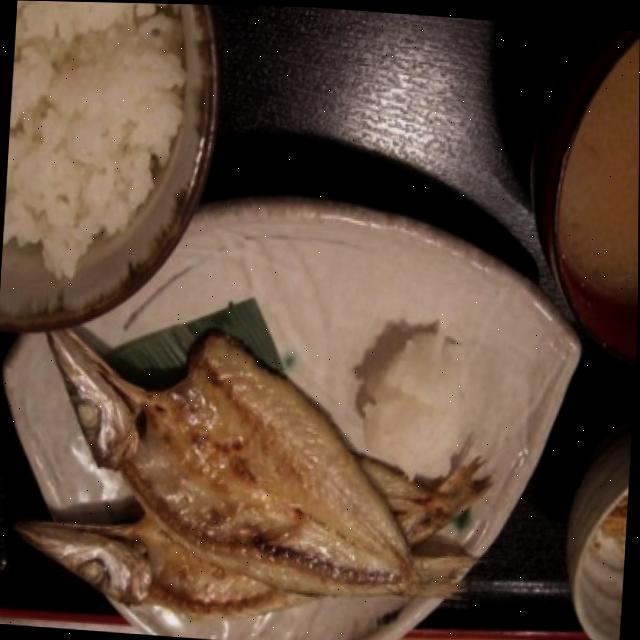熟制海鲜: (1, 313, 505, 640)
